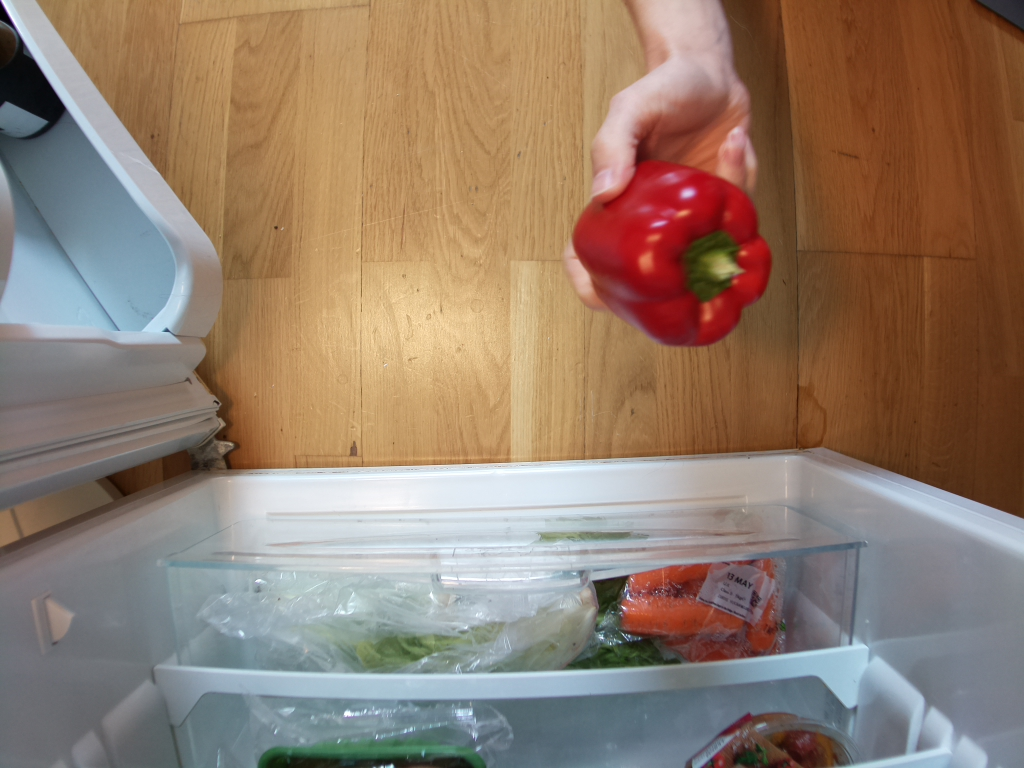pepper: (569, 158, 776, 352)
